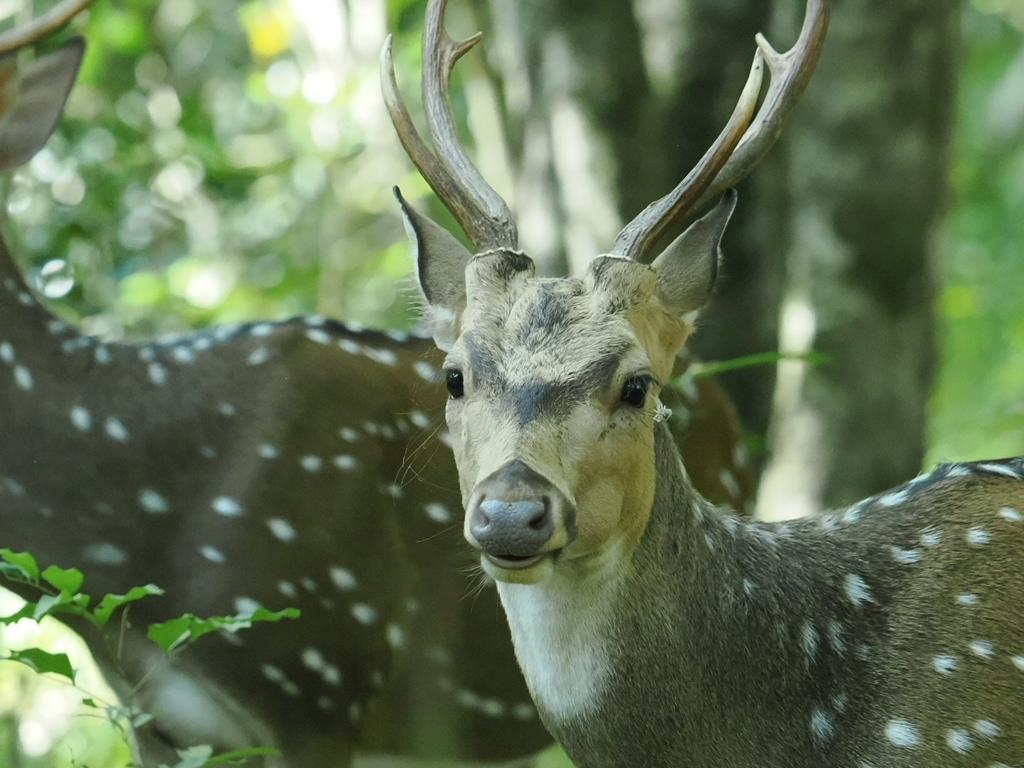Deer: (381, 0, 1023, 767)
